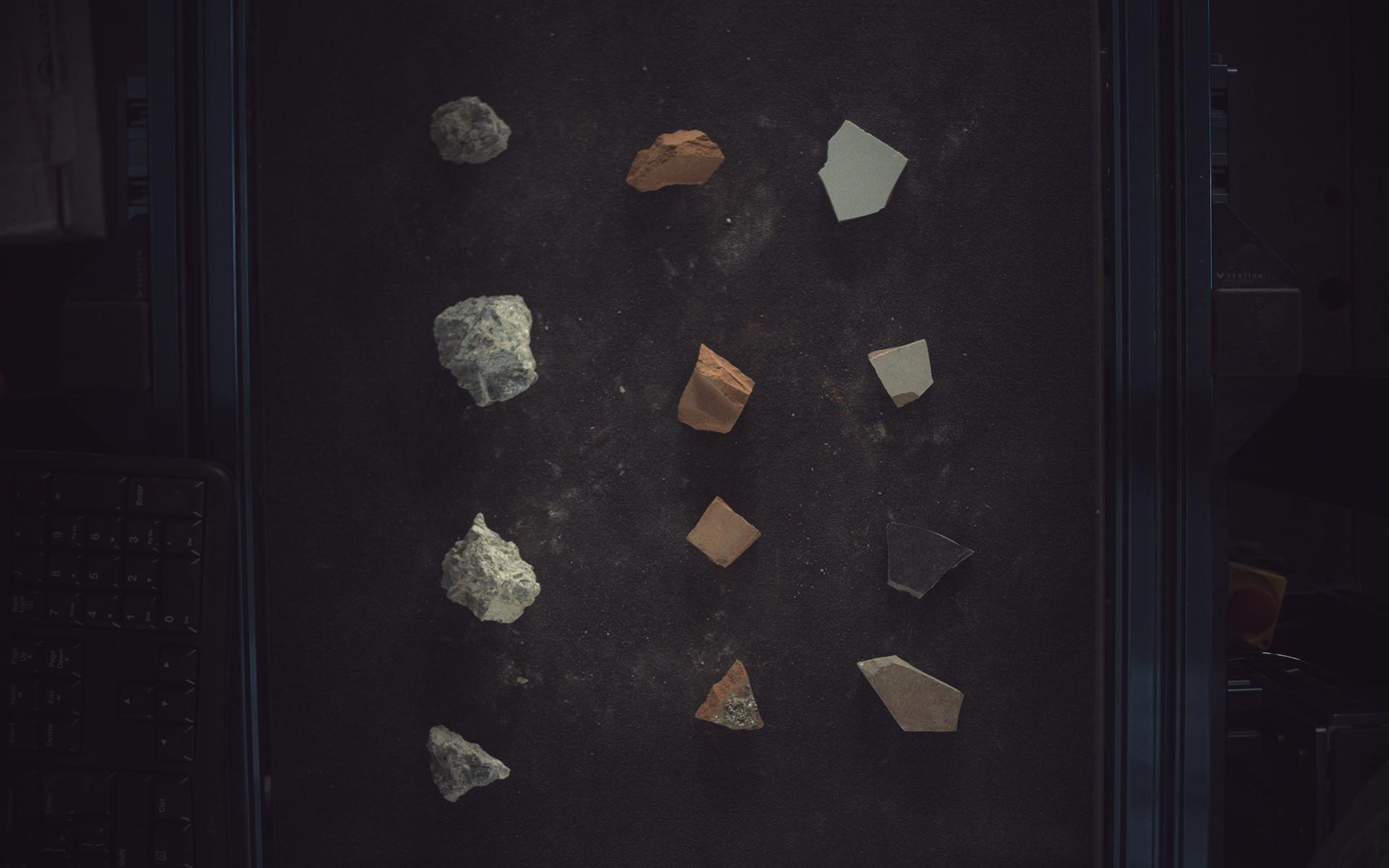brick: (679, 344, 756, 434), (627, 129, 726, 191), (688, 497, 762, 568), (697, 662, 765, 731)
concrete: (434, 295, 538, 407), (441, 514, 540, 624), (426, 728, 511, 804), (430, 95, 511, 163)
tile: (820, 119, 909, 221), (859, 657, 966, 733), (889, 524, 976, 599), (870, 339, 935, 408)
